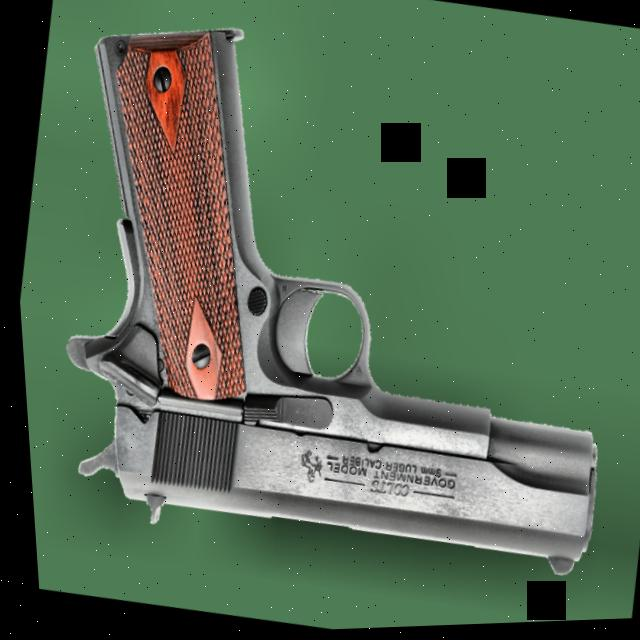Colt m1911: (9, 0, 640, 604)
